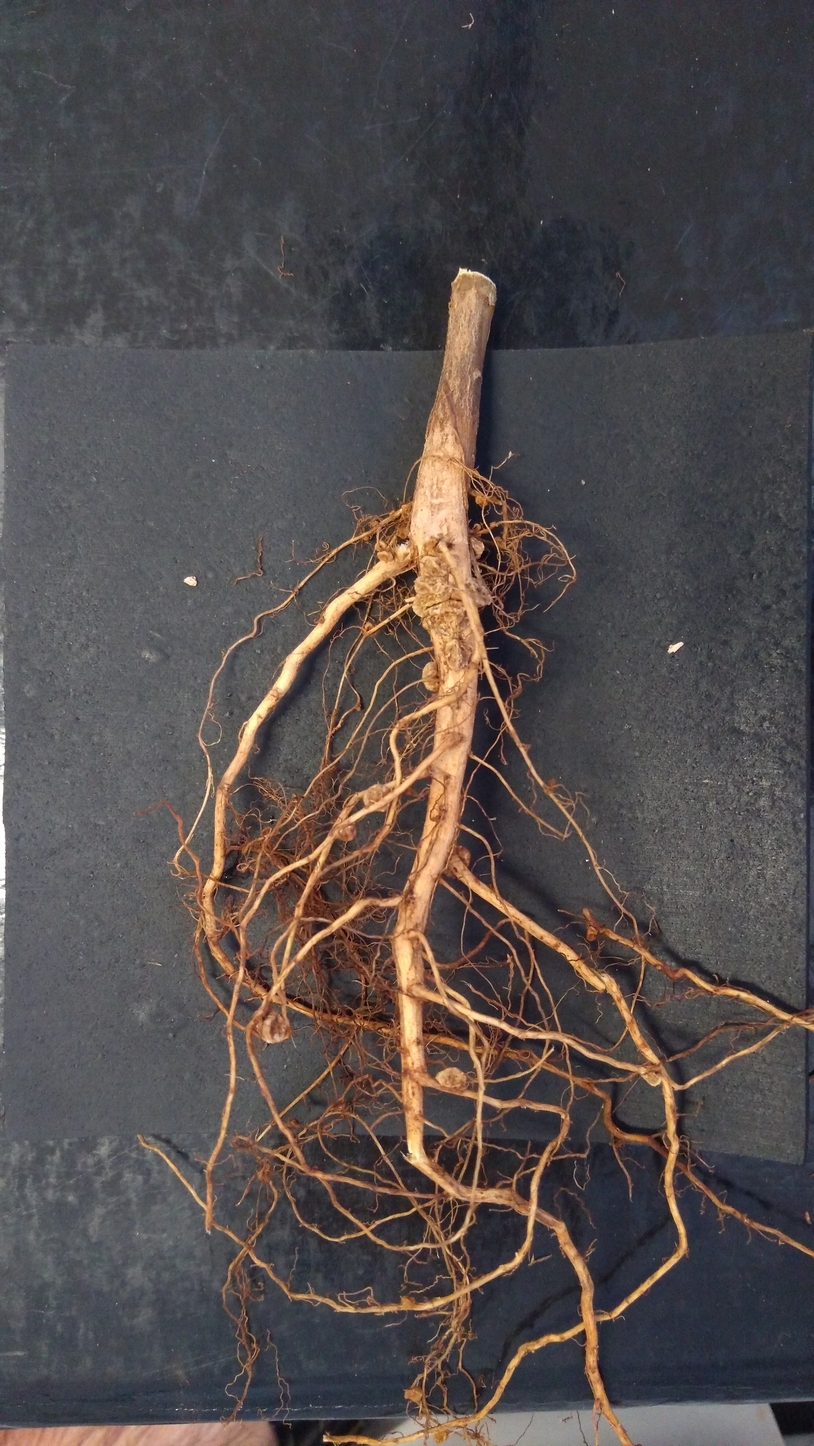nodule: (254, 1008, 294, 1048), (415, 599, 466, 630), (444, 841, 473, 885), (409, 589, 451, 618), (360, 781, 395, 815), (443, 637, 473, 672), (464, 576, 494, 609), (434, 1063, 469, 1091), (409, 573, 449, 597), (416, 554, 452, 577), (419, 661, 440, 693), (332, 824, 363, 845), (639, 1064, 666, 1088), (401, 1384, 429, 1405), (581, 924, 602, 944), (468, 534, 485, 558), (431, 1427, 453, 1445), (396, 516, 411, 539), (401, 1292, 422, 1308), (415, 766, 434, 783), (358, 621, 378, 637), (375, 548, 396, 562), (514, 1201, 532, 1216), (492, 534, 508, 549), (374, 539, 390, 551), (471, 521, 482, 531), (475, 493, 484, 505), (354, 702, 363, 713), (402, 504, 411, 514), (359, 534, 370, 541)
